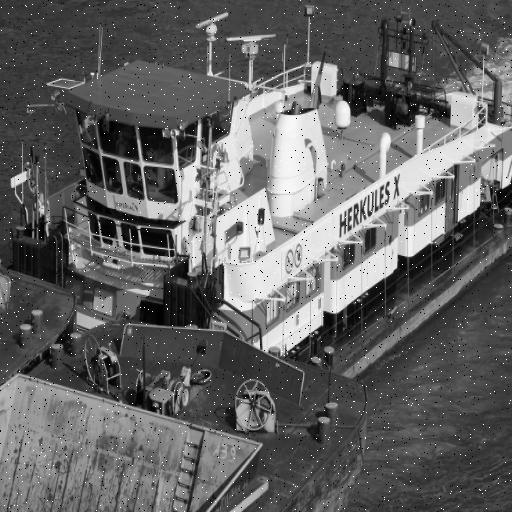tugboat: (5, 1, 512, 409)
